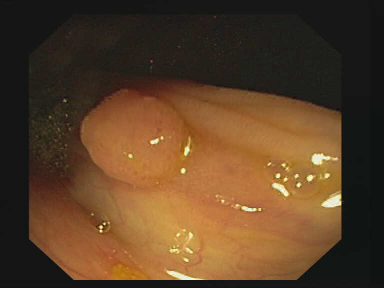polyp: (74, 72, 213, 194)
